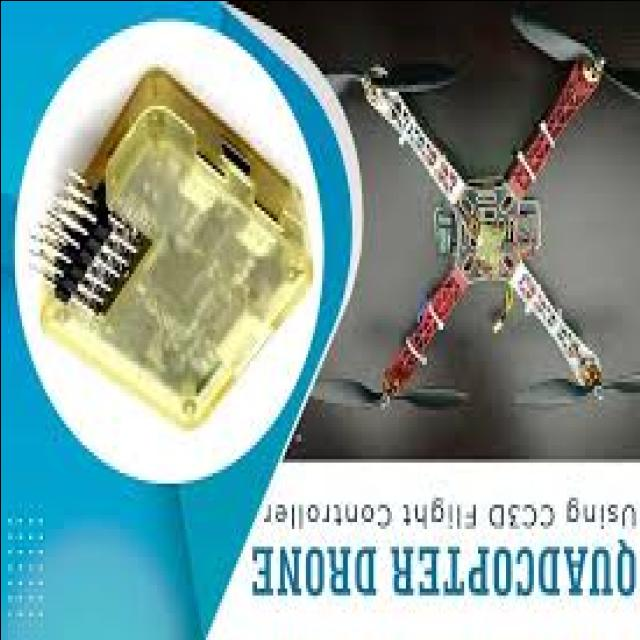drone: (310, 0, 640, 430)
